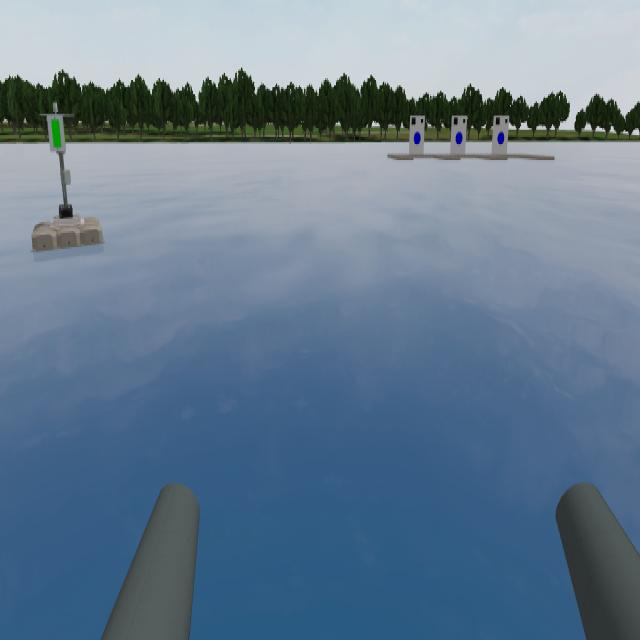green_pole: (40, 102, 77, 161)
